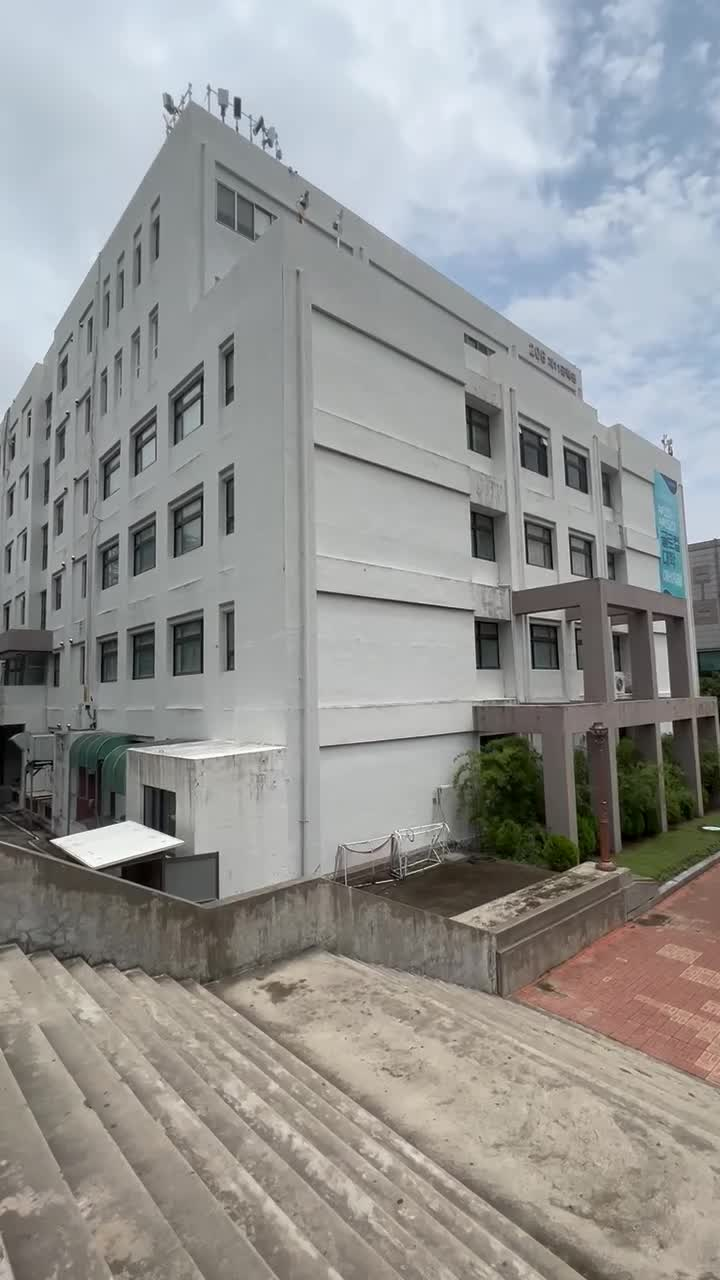medium: (28, 106, 700, 802)
